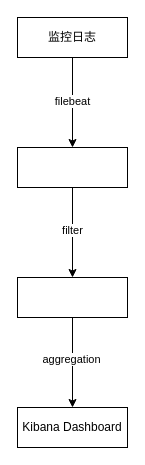
Some shapes in this 145 by 465 pixel diagram are drawn without their labels. The centre of each missing label's shape, as x and y in pixels:
"Elasticsearch" goes at point (72, 297).
"Logstash" goes at point (72, 167).
